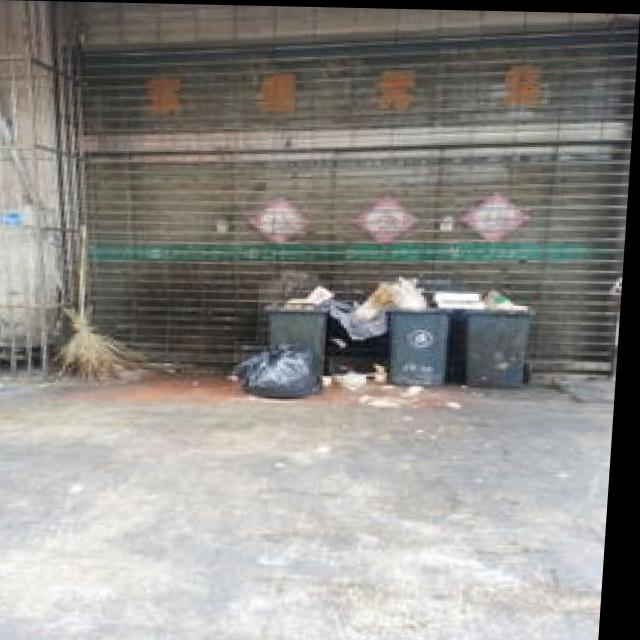garbage: (237, 340, 324, 396)
overflow: (331, 274, 455, 382), (435, 284, 539, 384), (259, 281, 333, 374)
